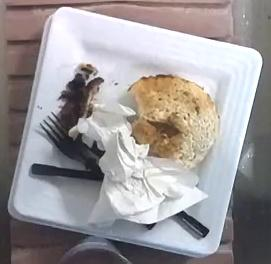bagel: (129, 75, 219, 168)
